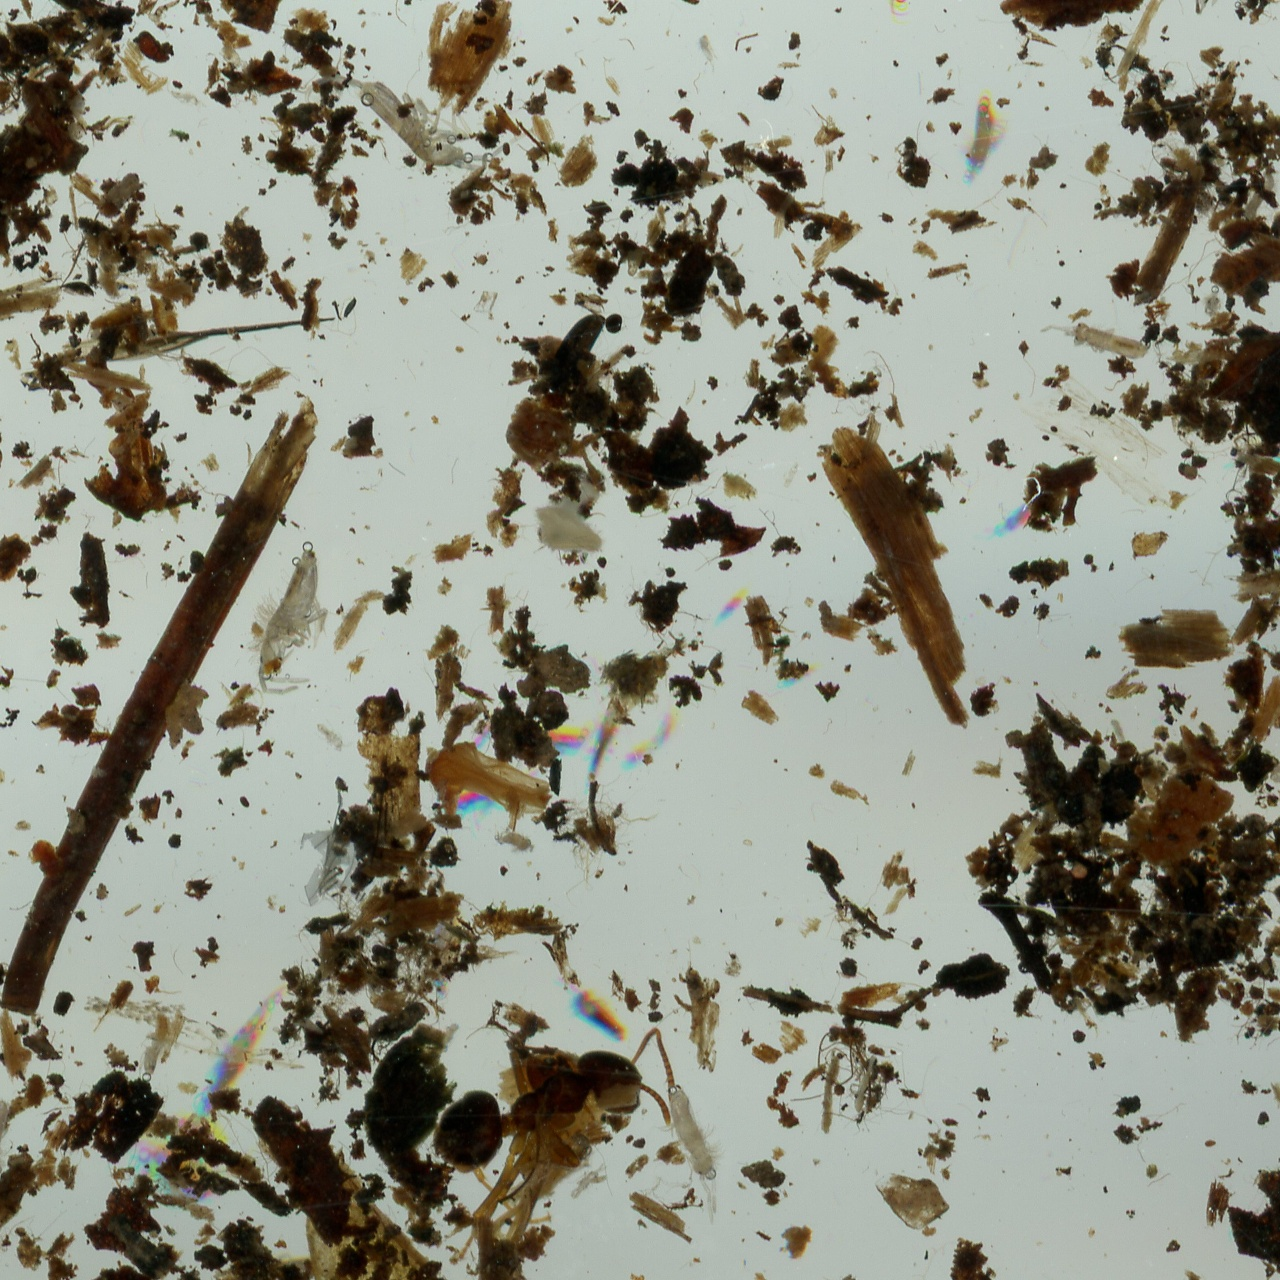arthropod: (421, 1026, 710, 1250), (291, 0, 538, 234), (240, 540, 358, 708), (653, 1082, 744, 1225), (1039, 309, 1151, 368), (956, 90, 1015, 195), (0, 951, 23, 1122), (307, 710, 358, 760), (1238, 165, 1280, 224), (135, 1007, 169, 1080), (0, 1088, 18, 1205), (165, 83, 210, 114), (492, 829, 538, 857), (696, 33, 721, 75), (1265, 60, 1280, 117), (884, 0, 922, 22), (1268, 727, 1280, 791), (1199, 292, 1225, 320), (1159, 294, 1172, 328), (504, 1073, 511, 1077)
